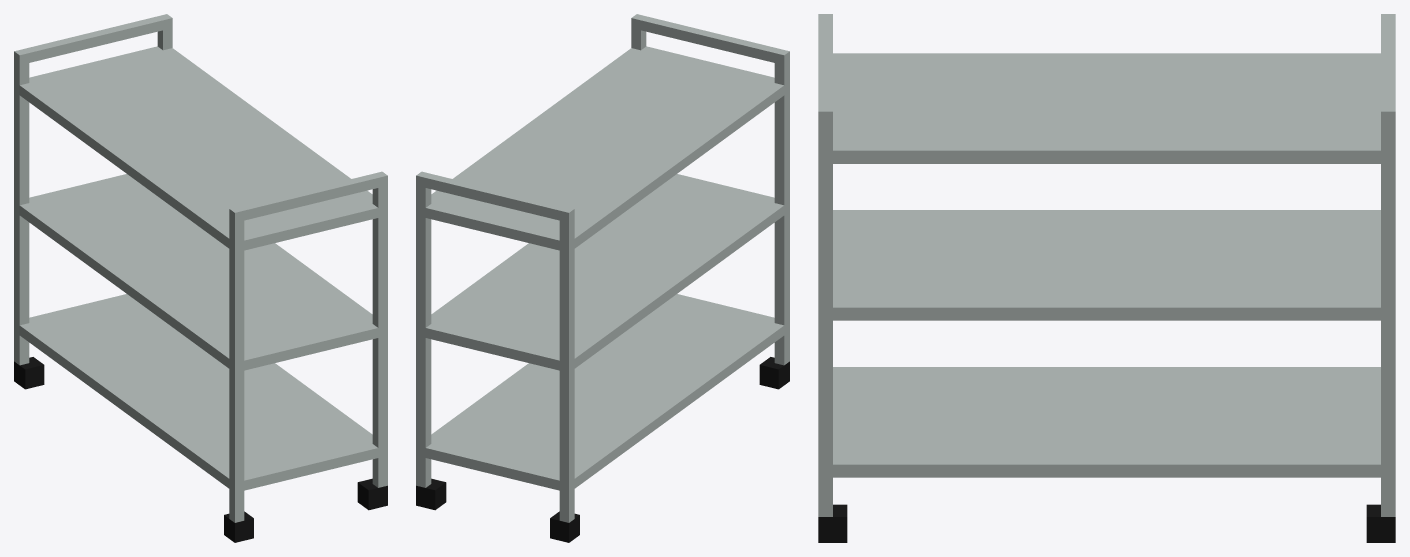
The model's file is table_mobile_01.glb.
3 renders of one model, left to right at view 1: azimuth 30°, elevation 25°; view 2: azimuth 150°, elevation 25°; view 3: azimuth 270°, elevation 25°, orthographic. The views are drawn at different scales.
Parts seen in each view (by area): view 1: Untitled; view 2: Untitled; view 3: Untitled.
Part boxes in pixels (x1=…): Untitled: x1=14, y1=14, x2=387, y2=542; Untitled: x1=416, y1=14, x2=789, y2=542; Untitled: x1=818, y1=14, x2=1395, y2=542.
Size of the model in its own units: 0.48 by 0.99 by 1.2.
1 material, 1 textured.
